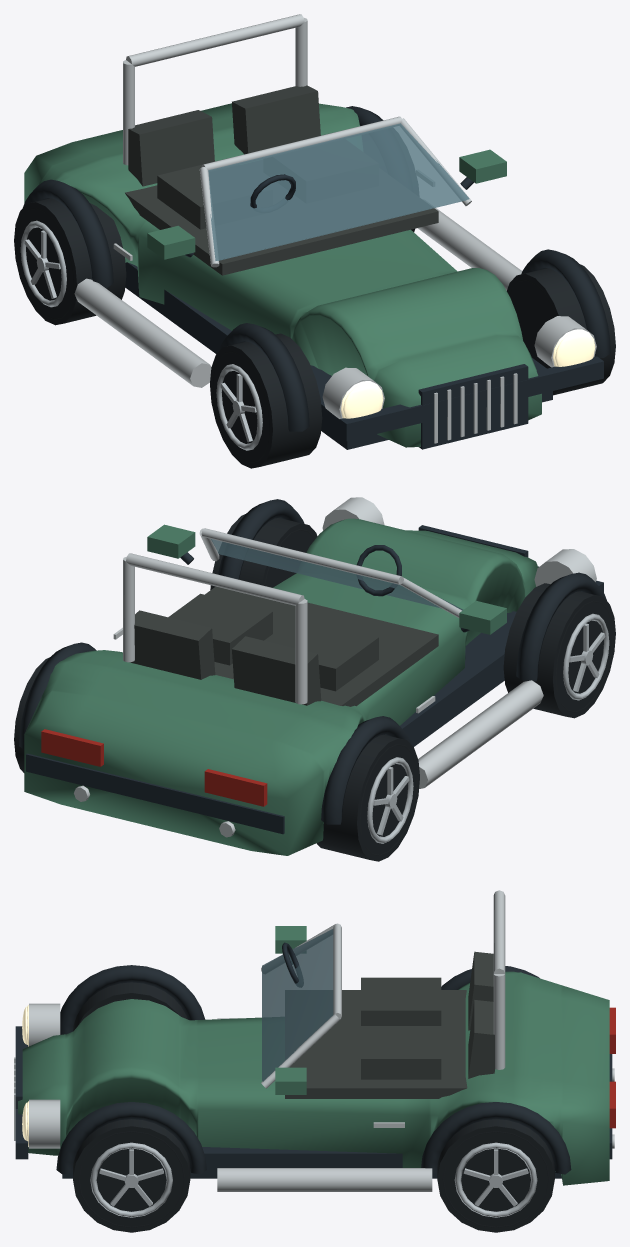
File: seven.glb
The picture shows the model from 3 angles, top to bottom: view 1: azimuth 30°, elevation 25°; view 2: azimuth 150°, elevation 25°; view 3: azimuth 270°, elevation 25°; orthographic projection. The views are drawn at different scales.
Parts seen in each view (by area): view 1: exterior-paint, windows, interior, chrome, black-trim, secondary-paint, tire-front-left, tire-rear-left, tire-front-right, headlights, rim-front-left, rim-rear-left; view 2: exterior-paint, interior, chrome, black-trim, secondary-paint, tire-front-left, tire-rear-left, taillights, windows, tire-front-right, rim-rear-left, rim-front-left (+1 smaller); view 3: exterior-paint, interior, chrome, secondary-paint, tire-rear-right, tire-front-right, windows, black-trim, rim-rear-right, rim-front-right, tire-front-left, taillights (+1 smaller).
Boxes of the visible parts, <box> form: exterior-paint: <box>24,103,541,447</box>; windows: <box>208,123,469,260</box>; interior: <box>125,85,438,275</box>; chrome: <box>74,14,596,443</box>; black-trim: <box>125,174,603,449</box>; secondary-paint: <box>23,106,610,431</box>; tire-front-left: <box>210,333,322,468</box>; tire-rear-left: <box>14,198,126,325</box>; tire-front-right: <box>507,264,615,395</box>; headlights: <box>341,329,595,418</box>; rim-front-left: <box>216,364,262,450</box>; rim-rear-left: <box>20,220,66,307</box>; exterior-paint: <box>24,518,538,855</box>; interior: <box>130,586,438,706</box>; chrome: <box>74,497,596,837</box>; black-trim: <box>26,525,603,834</box>; secondary-paint: <box>19,499,606,824</box>; tire-front-left: <box>503,583,615,718</box>; tire-rear-left: <box>316,734,419,861</box>; taillights: <box>41,729,267,806</box>; windows: <box>211,539,463,610</box>; tire-front-right: <box>210,514,317,589</box>; rim-rear-left: <box>367,757,413,843</box>; rim-front-left: <box>563,613,609,700</box>; exterior-paint: <box>18,926,609,1185</box>; interior: <box>285,951,494,1098</box>; chrome: <box>14,890,614,1191</box>; secondary-paint: <box>56,965,571,1174</box>; tire-rear-right: <box>437,1119,554,1232</box>; tire-front-right: <box>73,1119,190,1232</box>; windows: <box>262,929,333,1081</box>; black-trim: <box>15,942,612,1178</box>; rim-rear-right: <box>454,1142,537,1217</box>; rim-front-right: <box>90,1142,172,1217</box>; tire-front-left: <box>73,982,187,1031</box>; taillights: <box>609,1007,615,1128</box>.
Bounding box in the file's own units: 1.94 × 1.27 × 3.07.
